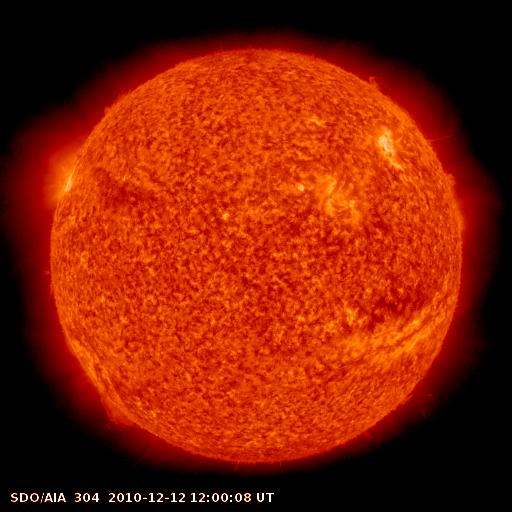prominence: (81, 378, 150, 437), (436, 159, 481, 235), (355, 56, 400, 103), (390, 382, 443, 421), (92, 85, 142, 117)
